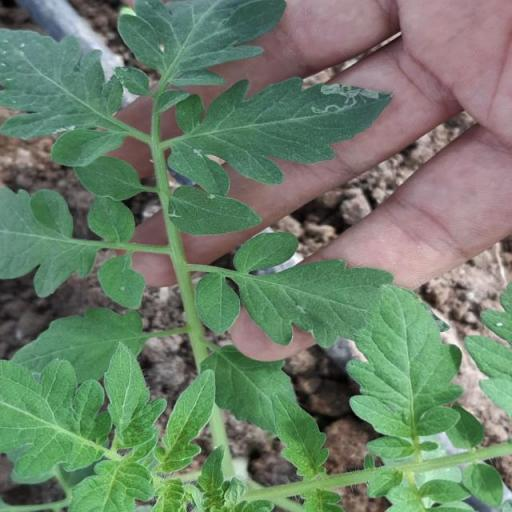Healthy: (340, 284, 464, 438)
Leaf Miner: (166, 74, 390, 196)
